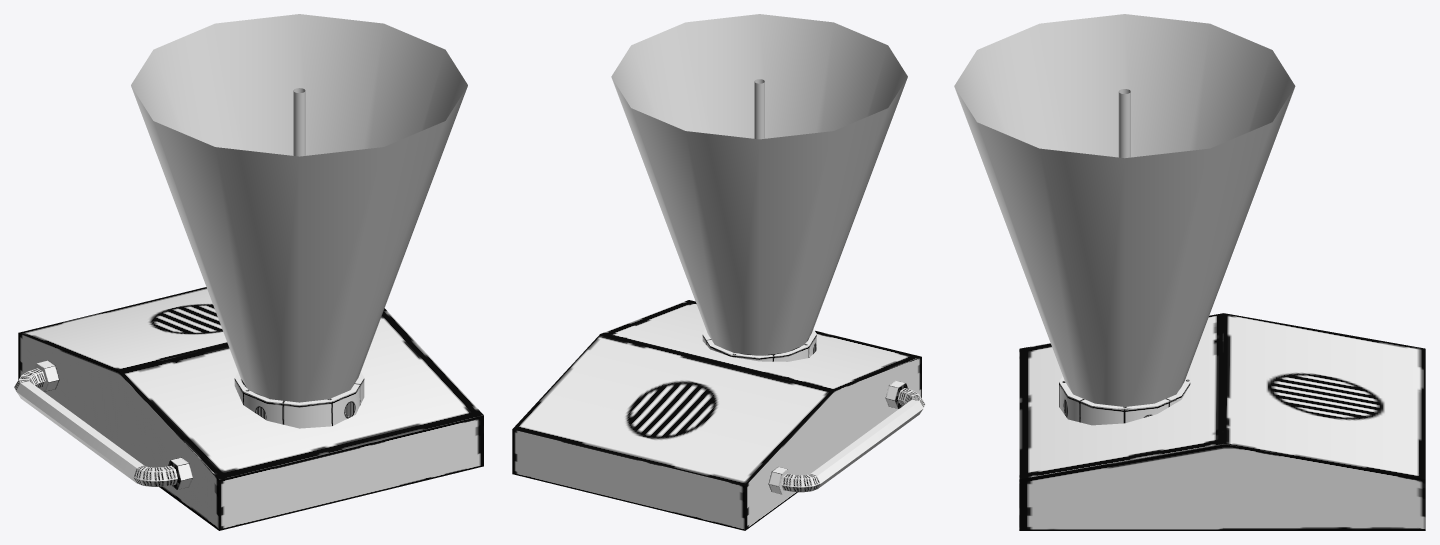
Rendered from eye_scanner.gltf.
The picture shows the model from 3 angles, left to right: view 1: azimuth 30°, elevation 25°; view 2: azimuth 150°, elevation 25°; view 3: azimuth 270°, elevation 25°; orthographic projection. The views are drawn at different scales.
Visible parts, largest first — view 1: Cylinder.001; view 2: Cylinder.001; view 3: Cylinder.001.
Boxes of the visible parts, bbox=[...] form: Cylinder.001: bbox=[14, 14, 483, 530]; Cylinder.001: bbox=[512, 14, 925, 530]; Cylinder.001: bbox=[954, 14, 1425, 530].
Size of the model in its own units: 5.74 by 6.38 by 7.18.
Materials: 2 (1 with a texture image).
